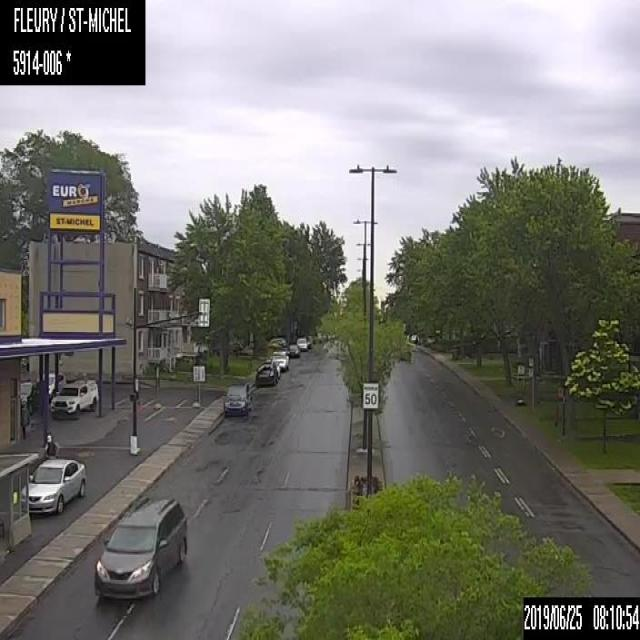pedestrian: (42, 432, 58, 457), (18, 400, 28, 440)
vehicle: (93, 493, 189, 598), (18, 457, 85, 514), (50, 375, 98, 420), (223, 382, 249, 418), (37, 370, 64, 399), (253, 359, 279, 387), (20, 380, 40, 411), (271, 350, 290, 372), (286, 343, 299, 358), (295, 336, 307, 350)
